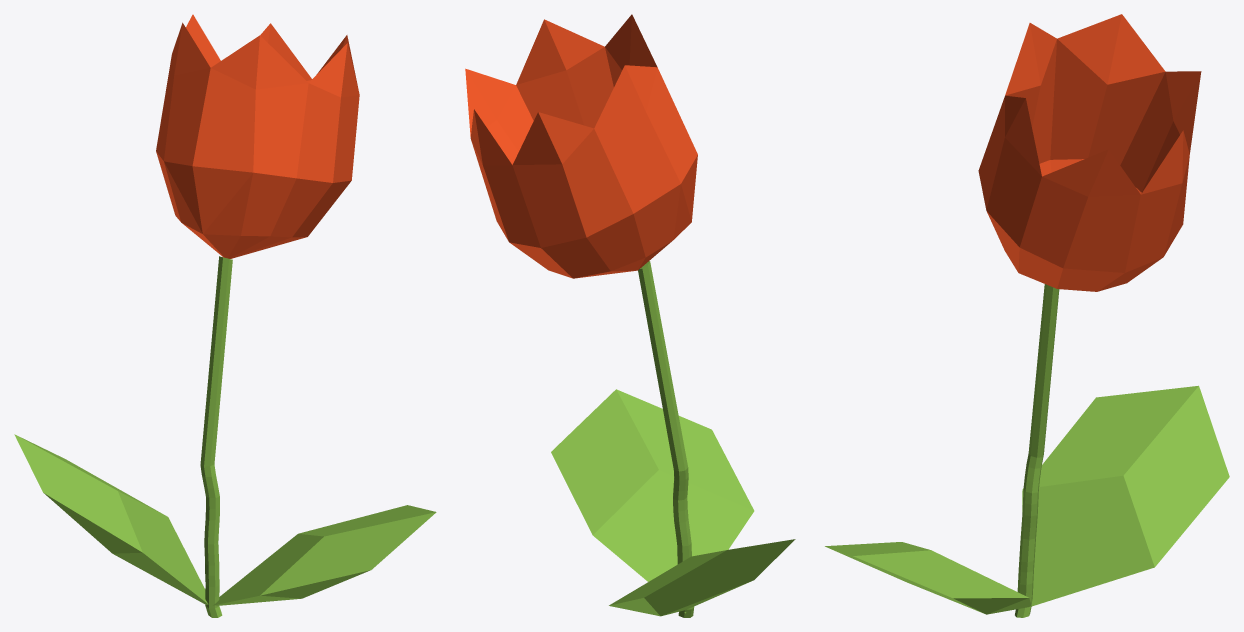
3 views of the same model, side by side, from view 1: azimuth 30°, elevation 25°; view 2: azimuth 150°, elevation 25°; view 3: azimuth 270°, elevation 25° (orthographic). The views are drawn at different scales.
Parts seen in each view (by area): view 1: mesh_882186960, mesh_634590257, mesh_1740406034, mesh_400733642; view 2: mesh_882186960, mesh_1740406034, mesh_634590257, mesh_400733642; view 3: mesh_882186960, mesh_634590257, mesh_1740406034, mesh_400733642.
Boxes of the visible parts, x1,y1,x2,y2 form: mesh_882186960: (156,14,359,258); mesh_634590257: (14,434,208,605); mesh_1740406034: (213,505,436,605); mesh_400733642: (200,256,232,617); mesh_882186960: (465,14,697,278); mesh_1740406034: (551,389,754,613); mesh_634590257: (609,539,795,616); mesh_400733642: (638,261,694,617); mesh_882186960: (978,14,1201,291); mesh_634590257: (1022,385,1229,606); mesh_1740406034: (825,542,1031,614); mesh_400733642: (1015,284,1059,617).
Size of the model in its own units: 18.31 by 31.94 by 18.97.
